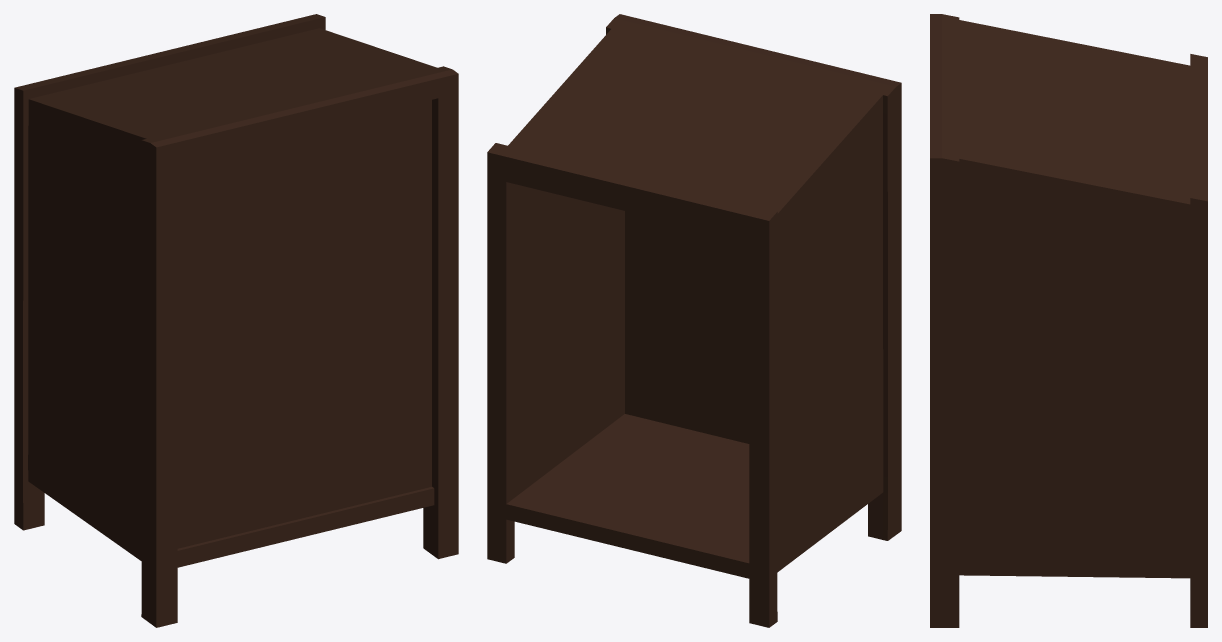
Rendered from quizstand2.fbx.
3 renders of one model, left to right at view 1: azimuth 30°, elevation 25°; view 2: azimuth 150°, elevation 25°; view 3: azimuth 270°, elevation 25°, orthographic. The views are drawn at different scales.
Parts seen in each view (by area): view 1: podium; view 2: podium; view 3: podium.
Boxes of the visible parts, x1,y1,x2,y2 form: podium: (14, 14, 458, 627); podium: (487, 14, 901, 627); podium: (930, 14, 1207, 627).
Size of the model in its own units: 1.68 by 2.56 by 1.37.
